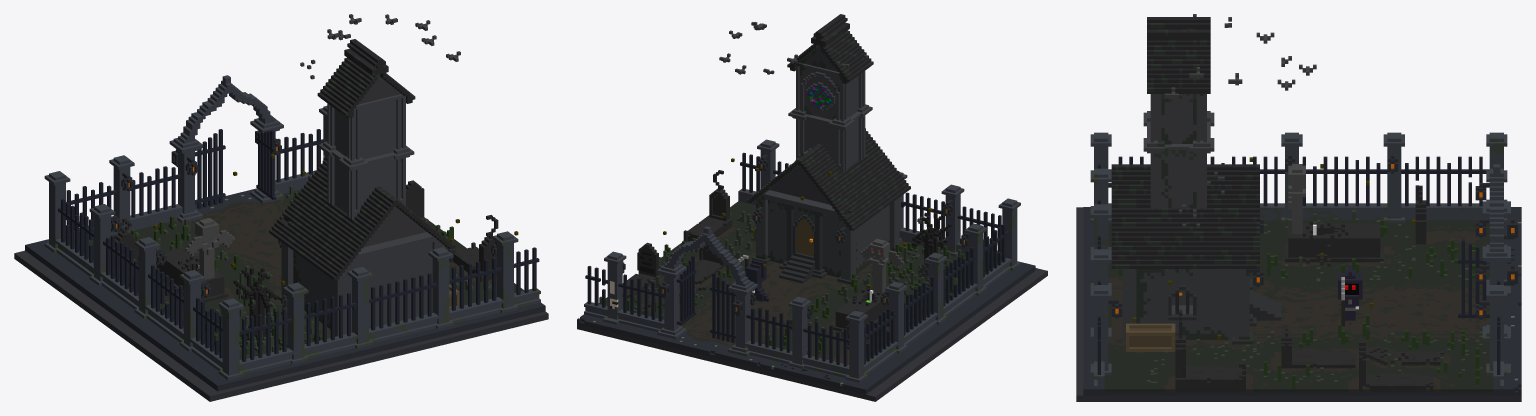
The model's file is graveyard.obj.
3 views of the same model, side by side, from view 1: azimuth 30°, elevation 25°; view 2: azimuth 150°, elevation 25°; view 3: azimuth 270°, elevation 25° (orthographic). The views are drawn at different scales.
Bounding box in the file's own units: 12.6 × 9.6 × 12.6.
Materials: 1 (1 with a texture image).
